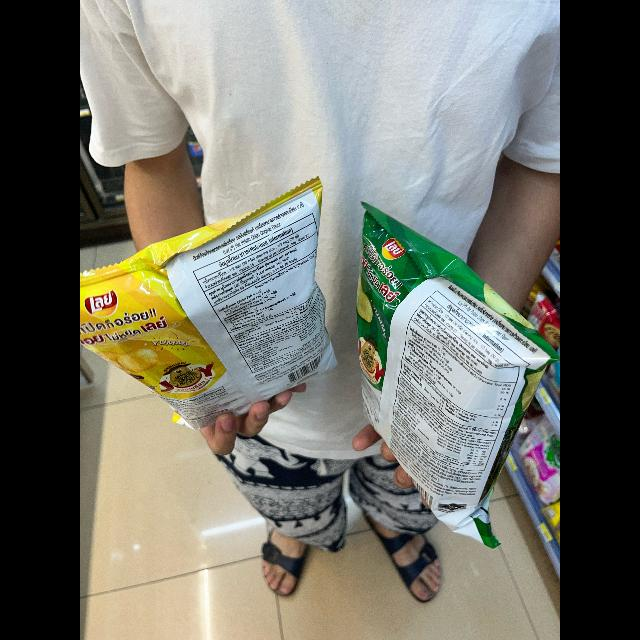snack_bag: (349, 204, 559, 556), (80, 174, 344, 436)
